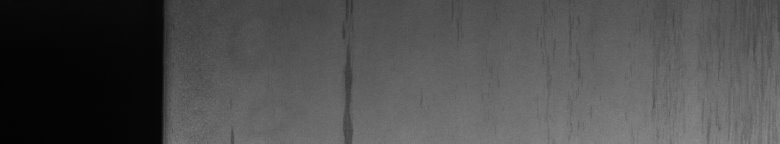hd: (336, 4, 359, 136)
